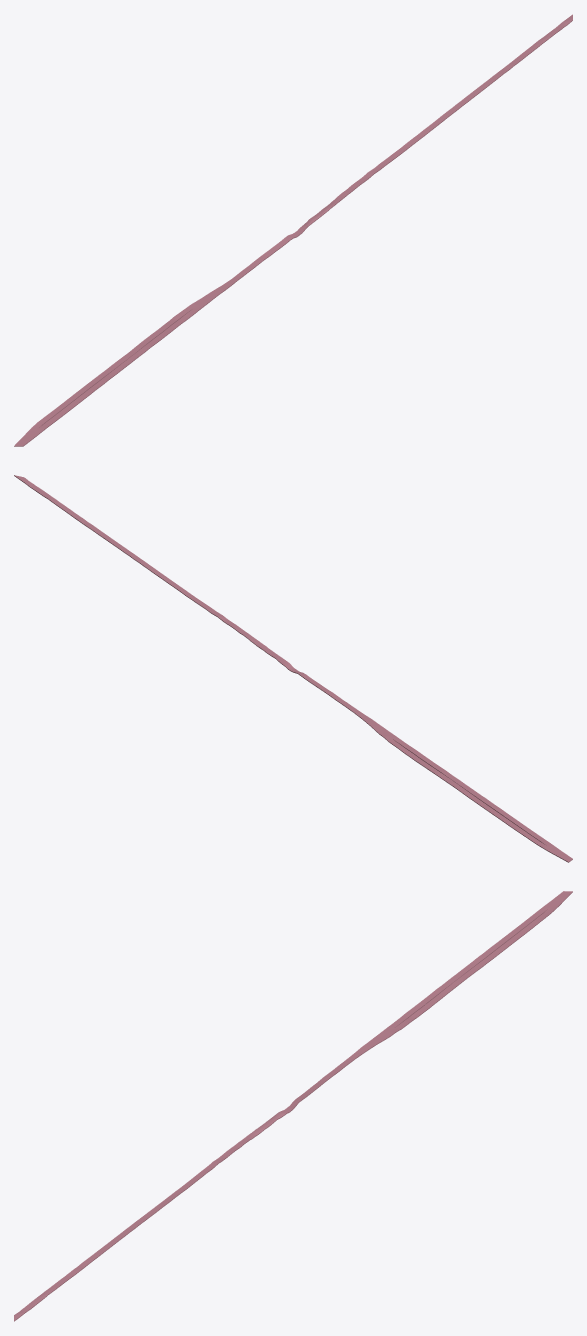
File: railway.glb
3 views of the same model, one above another, from view 1: azimuth 90°, elevation 25°; view 2: azimuth 150°, elevation 25°; view 3: azimuth 270°, elevation 25° (orthographic). The views are drawn at different scales.
Parts seen in each view (by area): view 1: extrudeFront, extrudeSide; view 2: extrudeFront, extrudeSide; view 3: extrudeFront, extrudeSide.
Boxes of the visible parts, x1,y1,x2,y2 form: extrudeFront: (14, 14, 572, 445); extrudeSide: (14, 20, 572, 446); extrudeFront: (14, 475, 572, 861); extrudeSide: (14, 475, 572, 862); extrudeFront: (14, 891, 572, 1320); extrudeSide: (14, 892, 572, 1321).
Bounding box in the file's own units: 1217 × 6.25 × 667.
